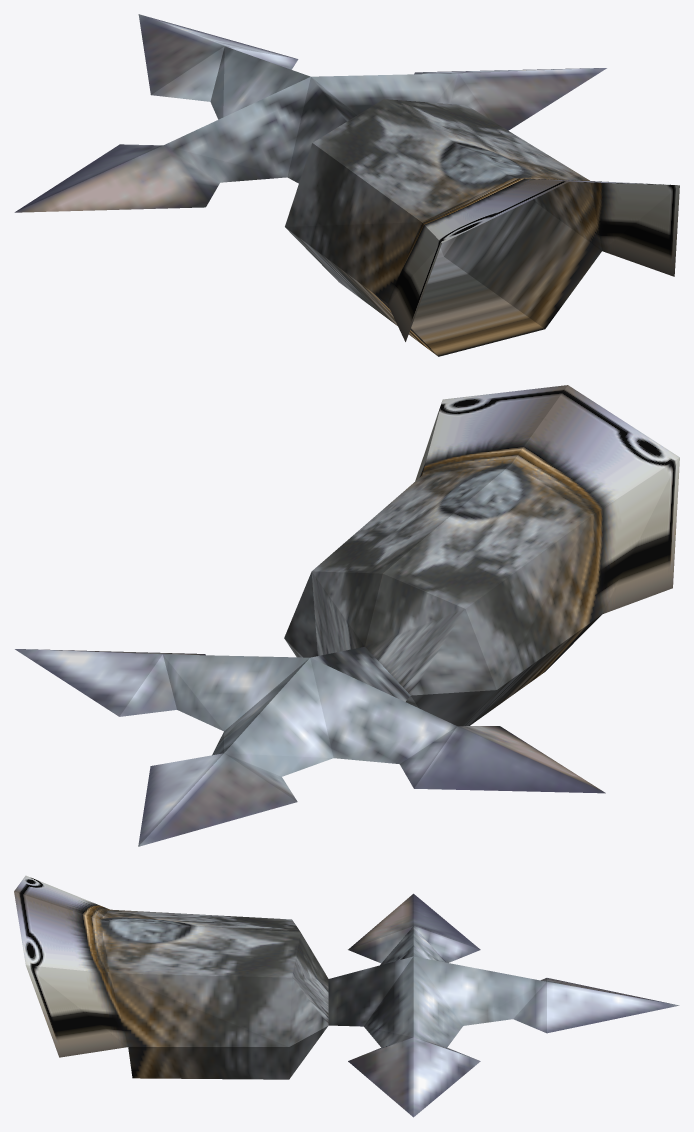
File: twinblade101_1.obj
3 views of the same model, one above another, from view 1: azimuth 30°, elevation 25°; view 2: azimuth 150°, elevation 25°; view 3: azimuth 270°, elevation 25° (orthographic). The views are drawn at different scales.
Visible parts, largest first — view 1: MDL_cwdhkn01_1r; view 2: MDL_cwdhkn01_1r; view 3: MDL_cwdhkn01_1r.
Part boxes in pixels (left/top/right/bottom): MDL_cwdhkn01_1r: left=14, top=14, right=679, bottom=356; MDL_cwdhkn01_1r: left=15, top=385, right=679, bottom=846; MDL_cwdhkn01_1r: left=14, top=875, right=679, bottom=1117.
Size of the model in its own units: 0.4525 by 0.1587 by 0.5687.
